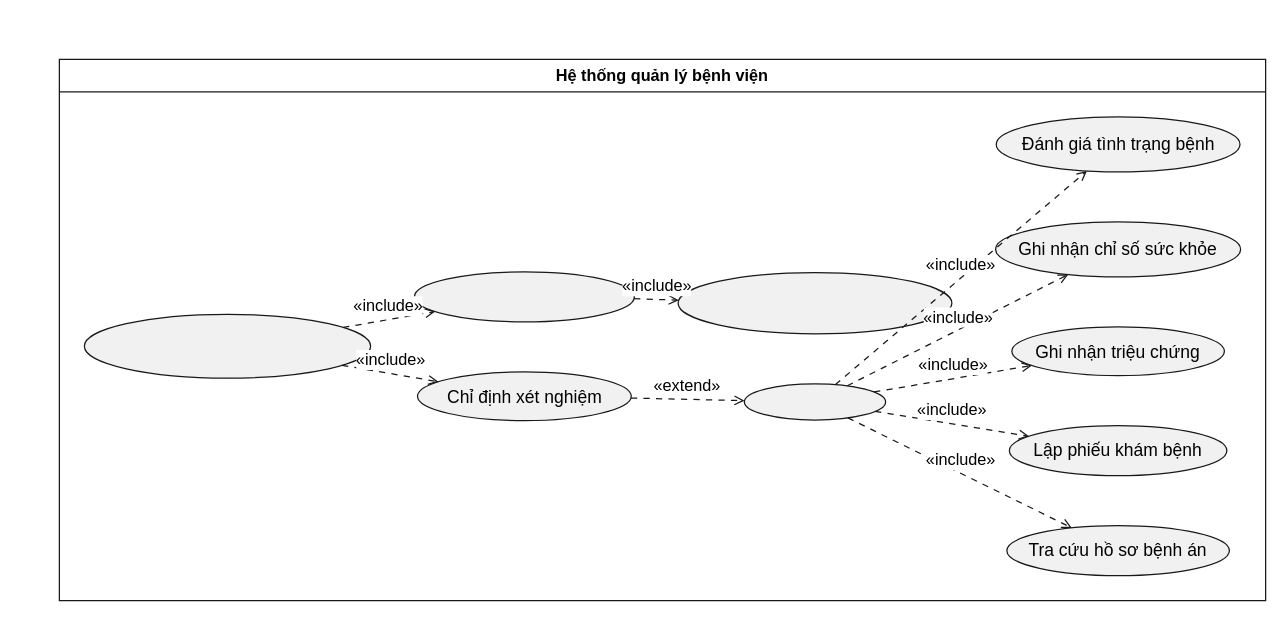
This 1288x623 diagram has some shape labels left out. Each missing label, with the centre of its shape:
"Ghi nhận kết quả xét nghiệm" belongs at [814,302].
"Khám bệnh" belongs at [814,401].
"Thực hiện xét nghiệm" belongs at [523,296].
"Tiếp nhận yêu cầu xét nghiệm" belongs at [227,345].
